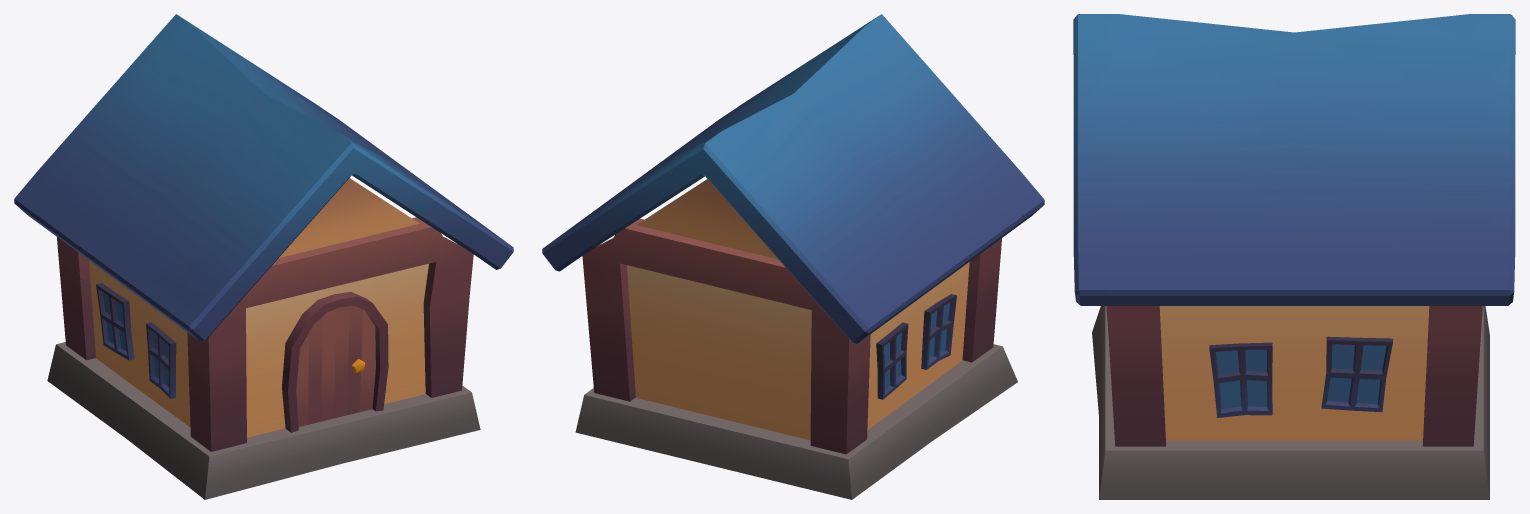
Rendered from village_blue_house.gltf.
3 views of the same model, side by side, from view 1: azimuth 30°, elevation 25°; view 2: azimuth 150°, elevation 25°; view 3: azimuth 270°, elevation 25° (orthographic). The views are drawn at different scales.
Visible parts, largest first — view 1: House_Blue_Material.005_0 (×30); view 2: House_Blue_Material.005_0 (×22); view 3: House_Blue_Material.005_0 (×22).
Part boxes in pixels (bbox=[...]): House_Blue_Material.005_0 (×30): bbox=[14, 14, 513, 499]; House_Blue_Material.005_0 (×22): bbox=[542, 14, 1044, 499]; House_Blue_Material.005_0 (×22): bbox=[1073, 14, 1515, 499].
Bounding box in the file's own units: 1.98 × 1.9 × 1.89.
1 material, 1 textured.
